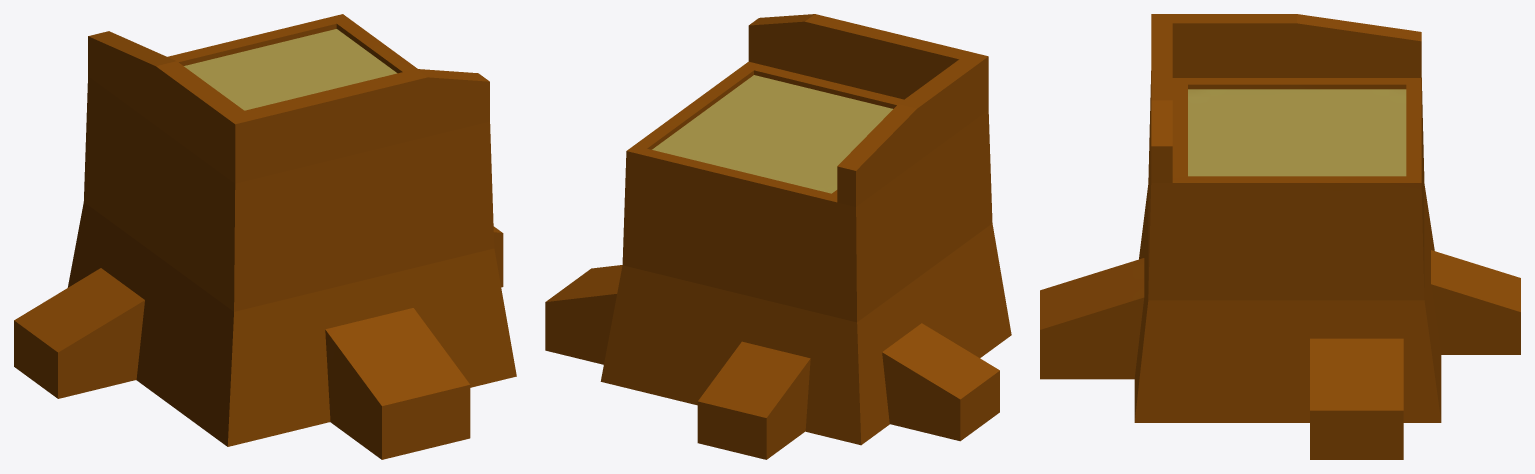
File: kit-ruins.glb
3 views of the same model, side by side, from view 1: azimuth 30°, elevation 25°; view 2: azimuth 150°, elevation 25°; view 3: azimuth 270°, elevation 25° (orthographic). The views are drawn at different scales.
Parts seen in each view (by area): view 1: Cube.134; view 2: Cube.134; view 3: Cube.134.
Boxes of the visible parts, <box> form: Cube.134: <box>14,14,516,459</box>; Cube.134: <box>545,14,1011,459</box>; Cube.134: <box>1040,14,1520,459</box>.
Size of the model in its own units: 0.8336 by 0.5537 by 0.8407.
Materials: 1 (1 with a texture image).
